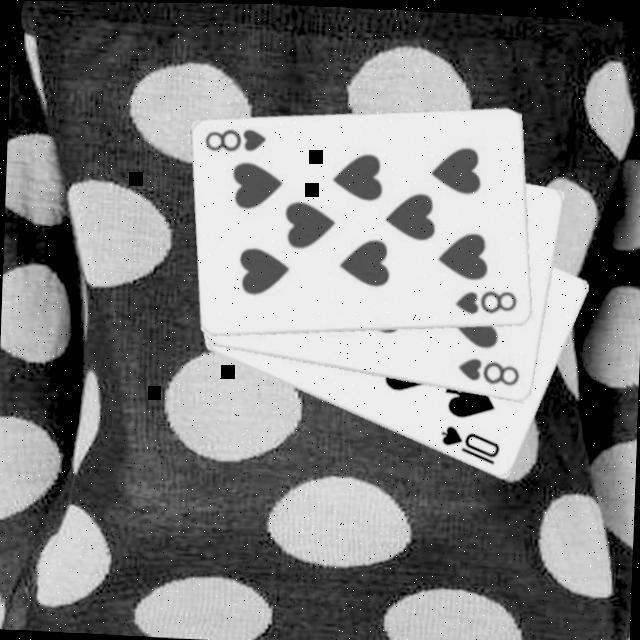10S: (434, 420, 502, 468)
8H: (452, 352, 520, 390), (449, 284, 518, 318), (199, 124, 268, 156)
